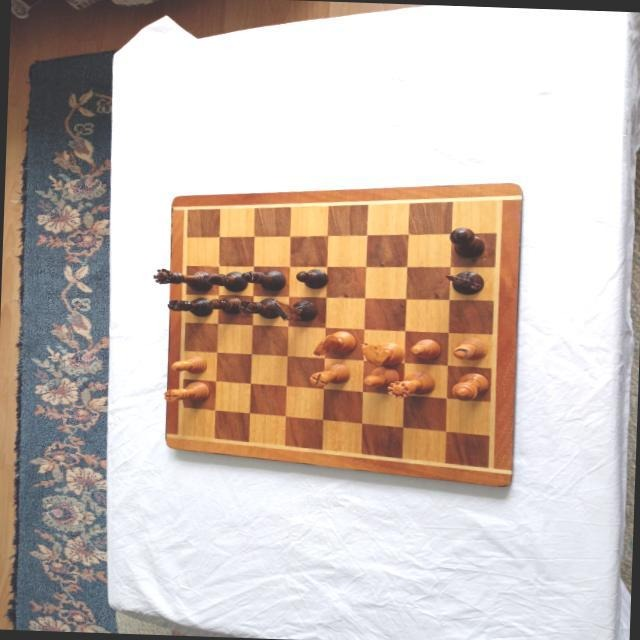black-bishop: (200, 268, 247, 291), (239, 267, 284, 291)
black-king: (447, 226, 484, 258)
black-knight: (443, 268, 484, 293), (273, 297, 317, 320)
black-pawn: (207, 294, 243, 313), (294, 268, 327, 288)
black-queen: (151, 266, 212, 291)
black-rook: (238, 295, 282, 318), (166, 295, 212, 317)
white-bishop: (451, 335, 487, 360), (362, 364, 399, 388)
white-king: (450, 372, 489, 400)
white-knight: (311, 328, 355, 356), (358, 340, 405, 366)
white-pawn: (170, 353, 208, 373), (410, 337, 442, 359)
white-queen: (385, 369, 434, 399)
white-rook: (308, 360, 351, 387), (162, 378, 209, 402)
